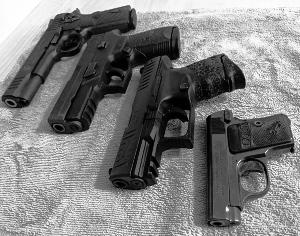handgun: (98, 46, 250, 204), (49, 20, 185, 151), (5, 5, 138, 121), (204, 101, 297, 236)
